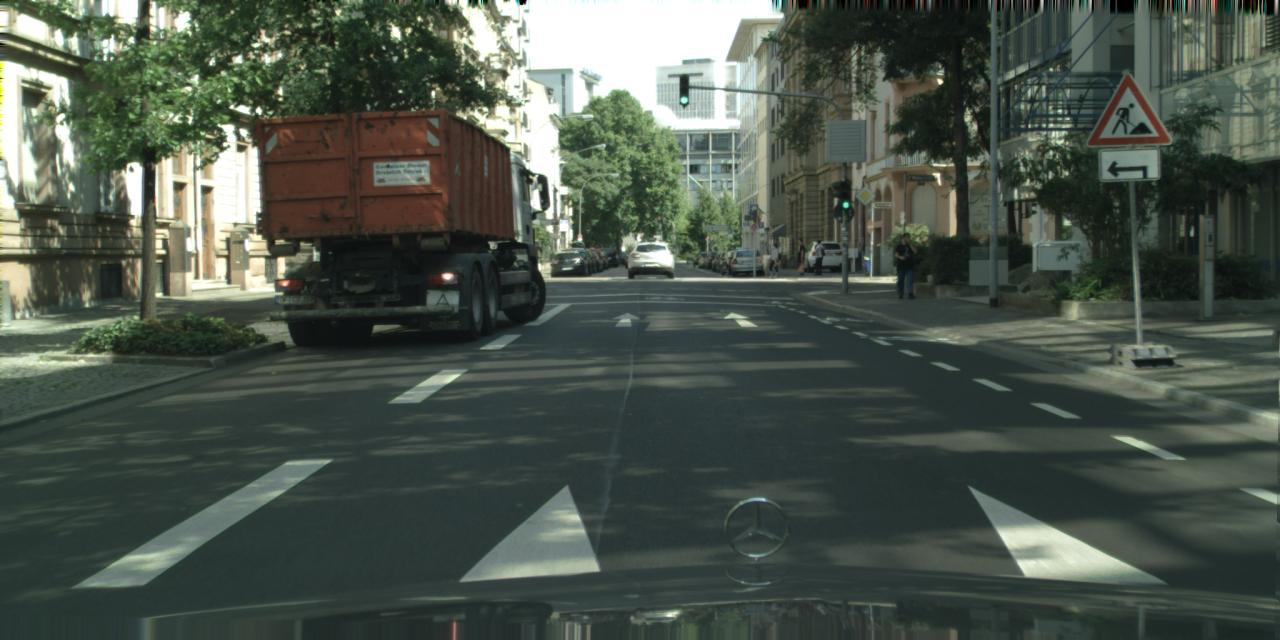ped: (892, 232, 919, 299), (792, 237, 807, 276), (810, 239, 826, 275), (766, 242, 780, 278), (760, 248, 771, 277)
